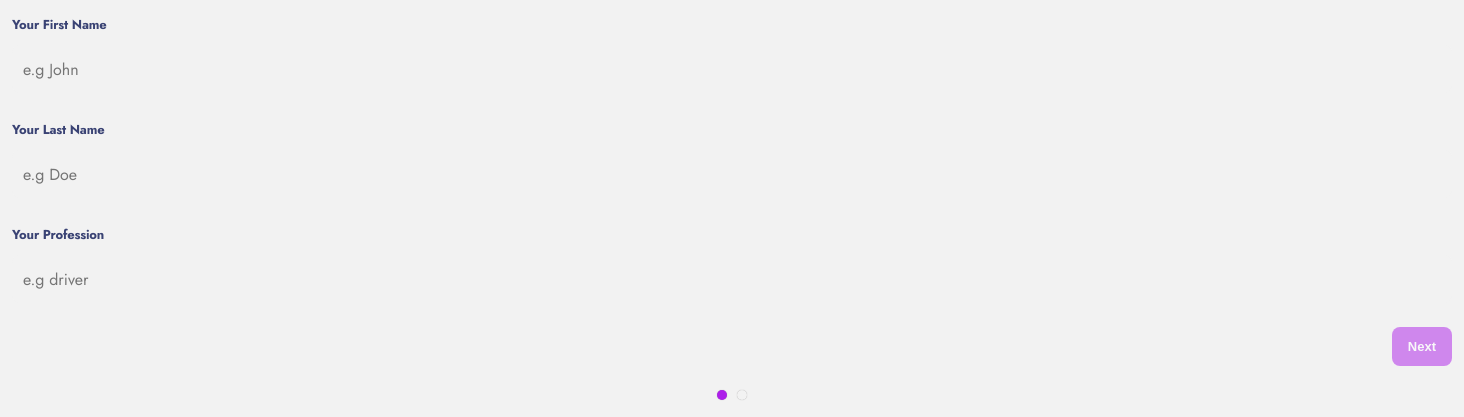
it: Sign Up Form Container › should render step one on btn back click
Type "john" into the field with test id "sign-up-form-first-name".
click(732, 69); type("john")  # box x1=12 y1=45 x2=1452 y2=93
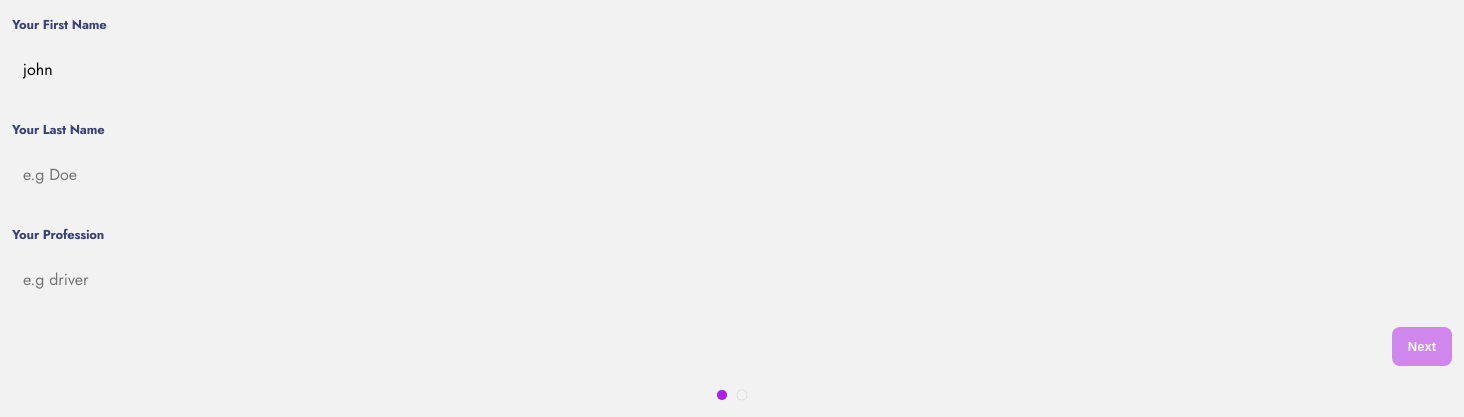
Type "doe" into the field with test id "sign-up-form-last-name".
click(732, 174); type("doe")  # box x1=12 y1=150 x2=1452 y2=198
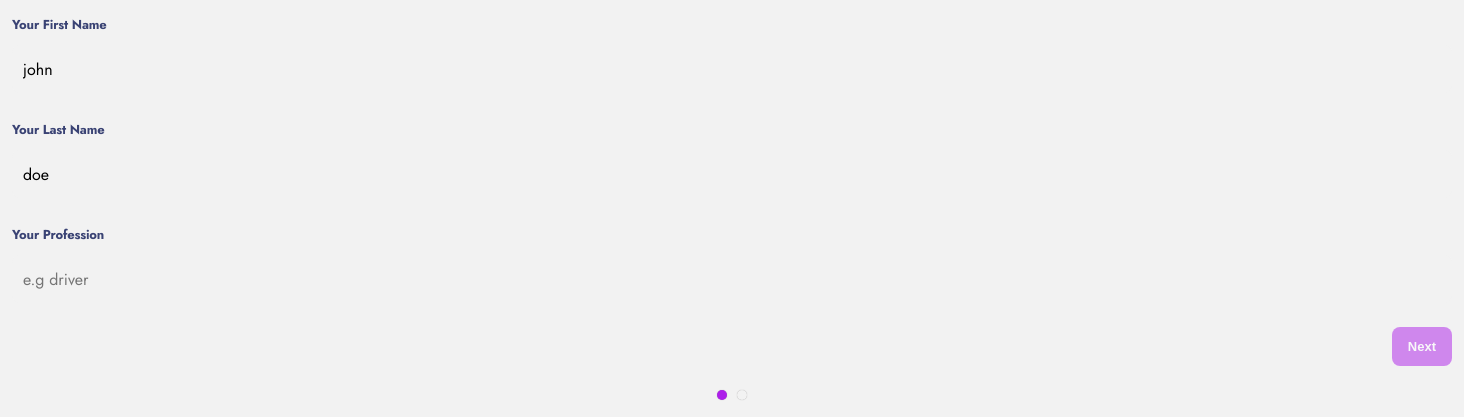
Type "dancer" into the field with test id "sign-up-form-profession".
click(732, 279); type("dancer")  # box x1=12 y1=255 x2=1452 y2=303
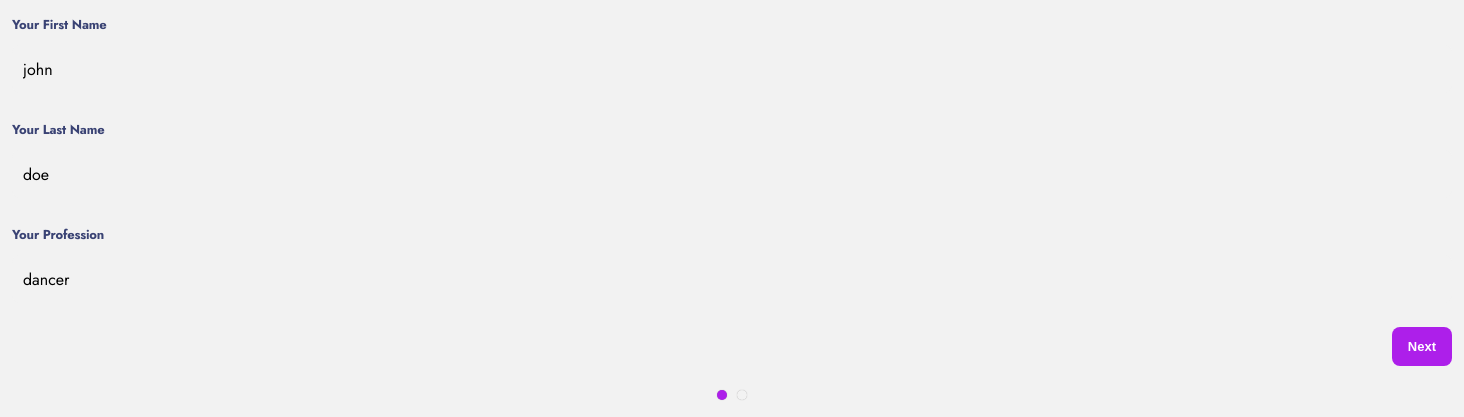
Click the button with test id "sign-up-form-next-btn".
click(1422, 346)  # box x1=1392 y1=327 x2=1452 y2=366
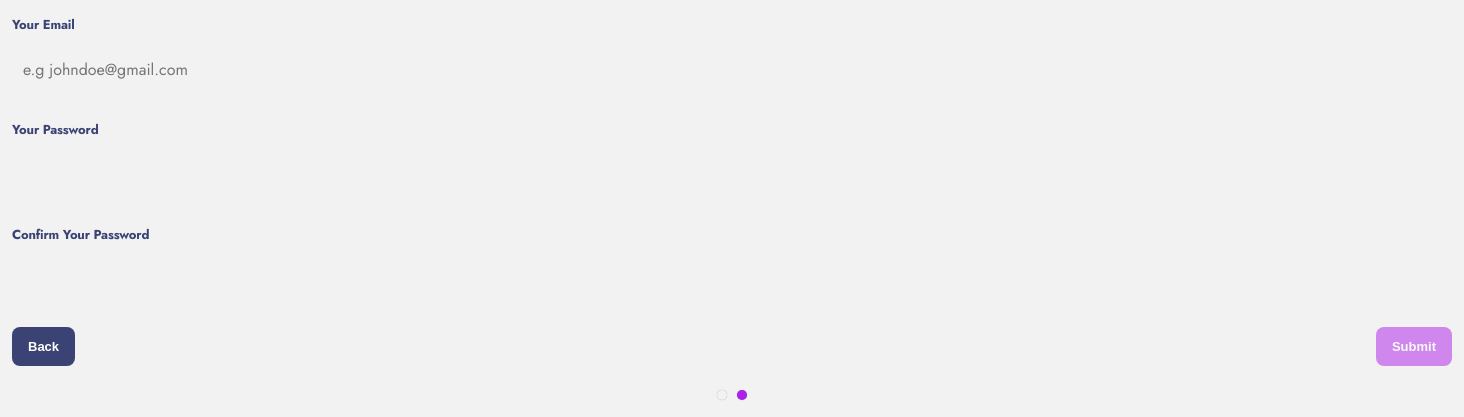
Click the button with test id "sign-up-form-back-btn".
click(44, 346)  # box x1=12 y1=327 x2=75 y2=366
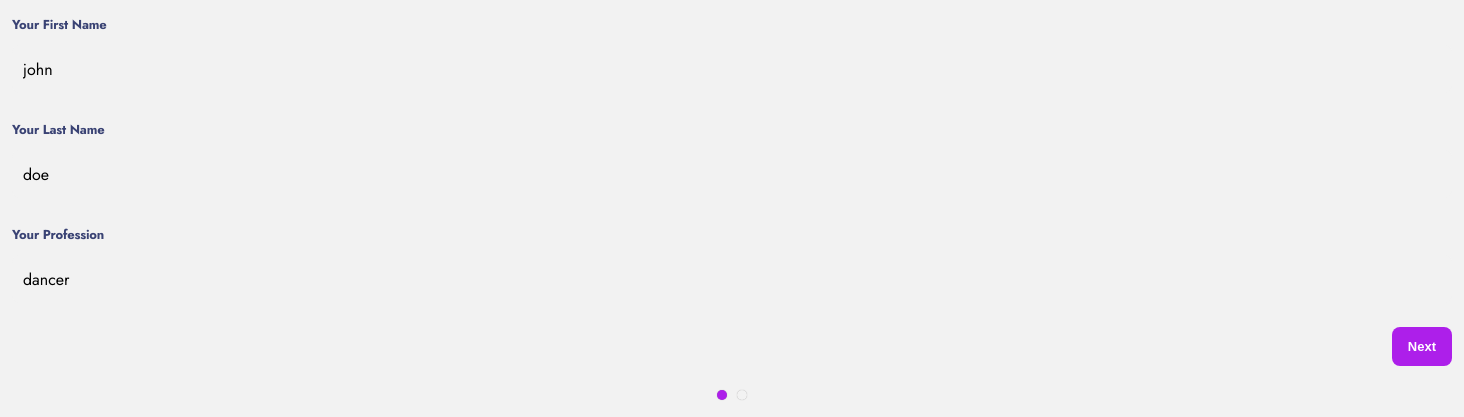
expect the field with test id "sign-up-form-first-name" is shown: met, box x1=12 y1=45 x2=1452 y2=93
